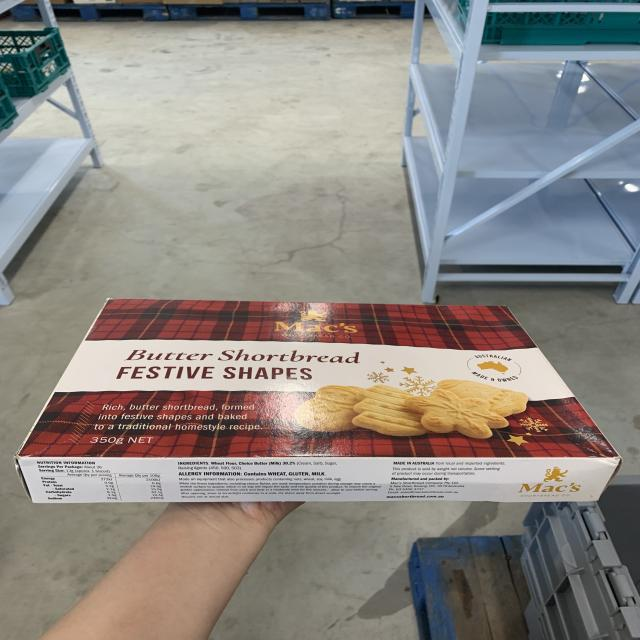object_name: (20, 303, 623, 507)
